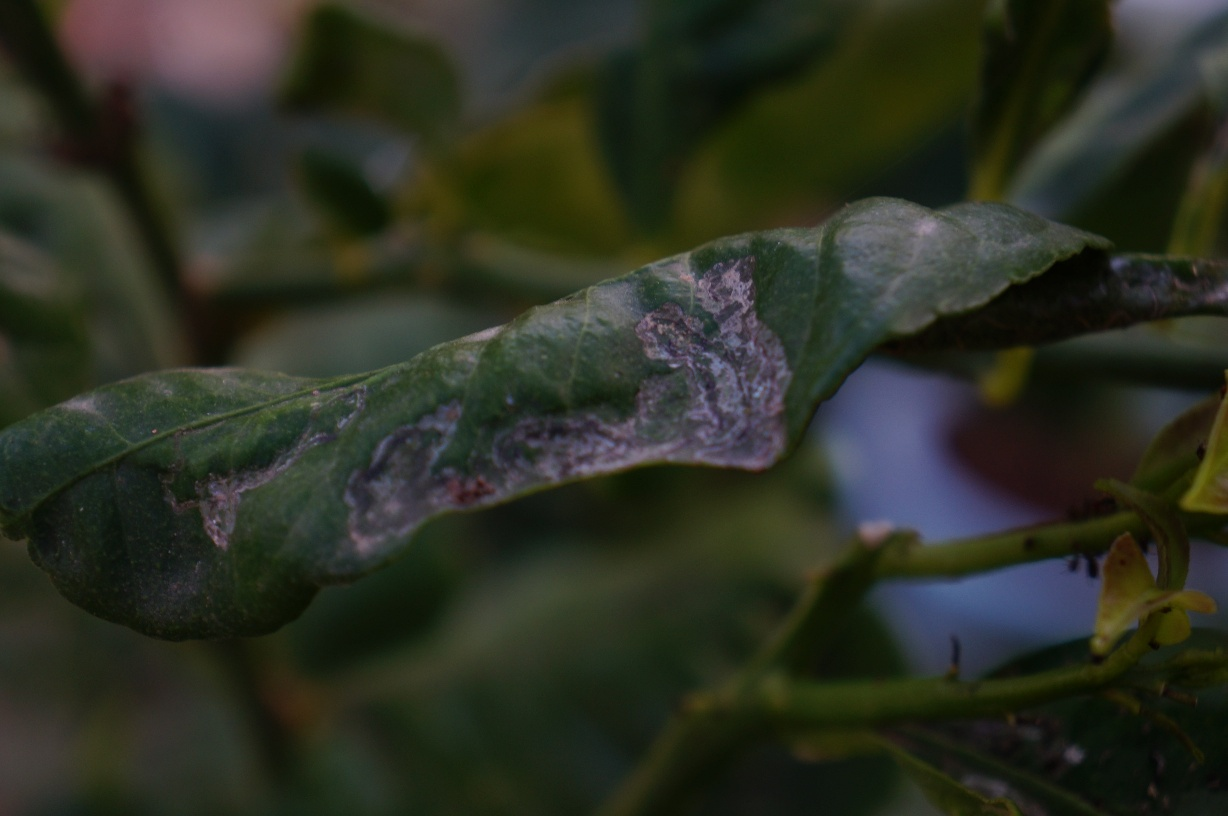damage: (170, 239, 811, 610)
